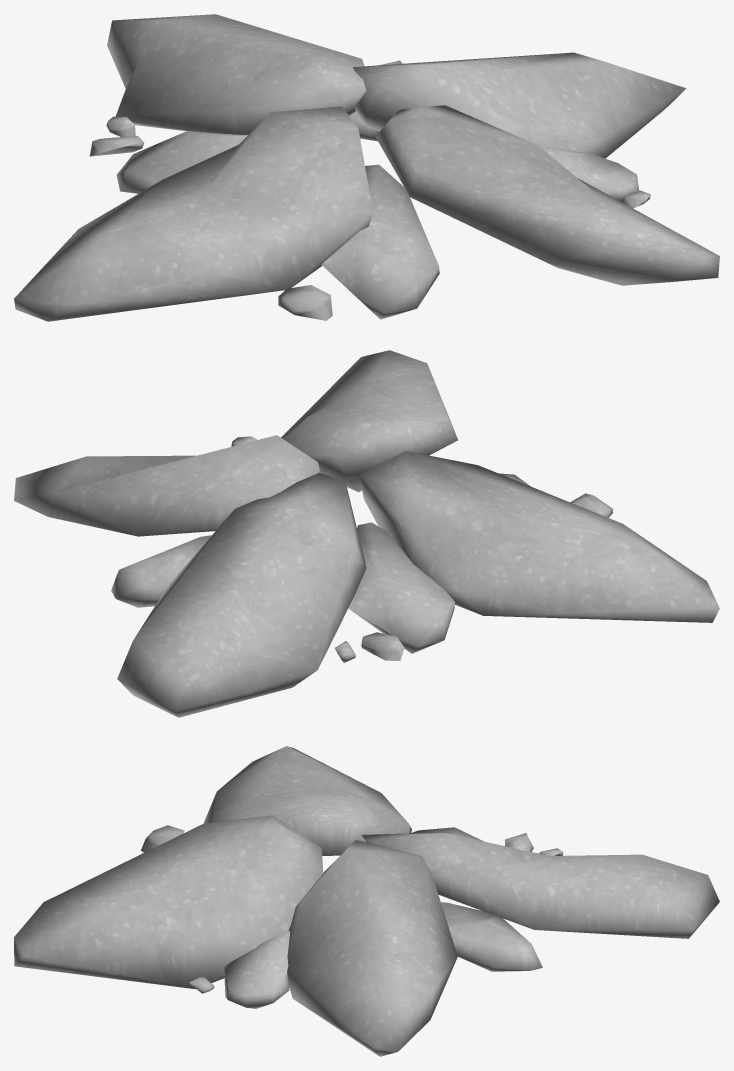
Rendered from Geyser.fbx.
The picture shows the model from 3 angles, top to bottom: view 1: azimuth 30°, elevation 25°; view 2: azimuth 150°, elevation 25°; view 3: azimuth 270°, elevation 25°; orthographic projection. The views are drawn at different scales.
Visible parts, largest first — view 1: Sphere; view 2: Sphere; view 3: Sphere.
Boxes of the visible parts, x1,y1,x2,y2 form: Sphere: (14, 14, 719, 321); Sphere: (14, 350, 719, 717); Sphere: (14, 746, 719, 1056).
Size of the model in its own units: 5.51 by 1.03 by 5.54.
